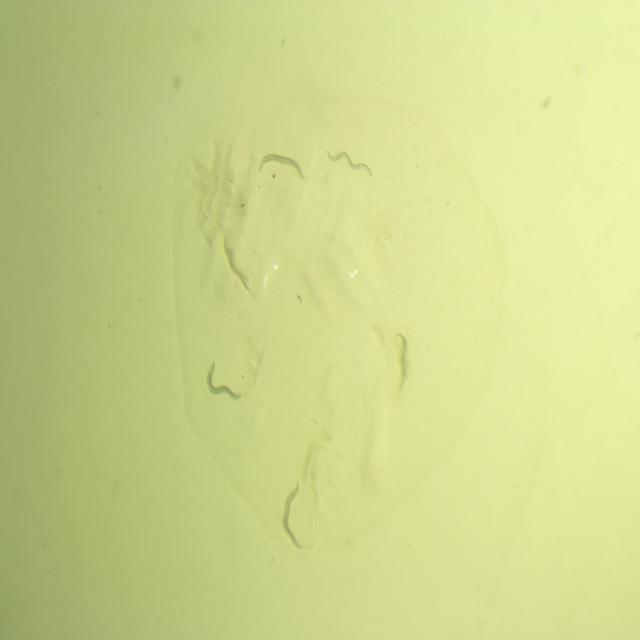worm: (220, 233, 253, 300), (279, 480, 309, 553), (204, 358, 245, 406), (325, 143, 376, 180), (257, 150, 307, 186), (393, 328, 412, 397)
